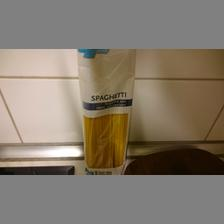Nudeln: (75, 48, 135, 174)
